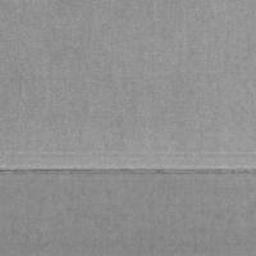Welding line: (0, 169, 256, 175)
